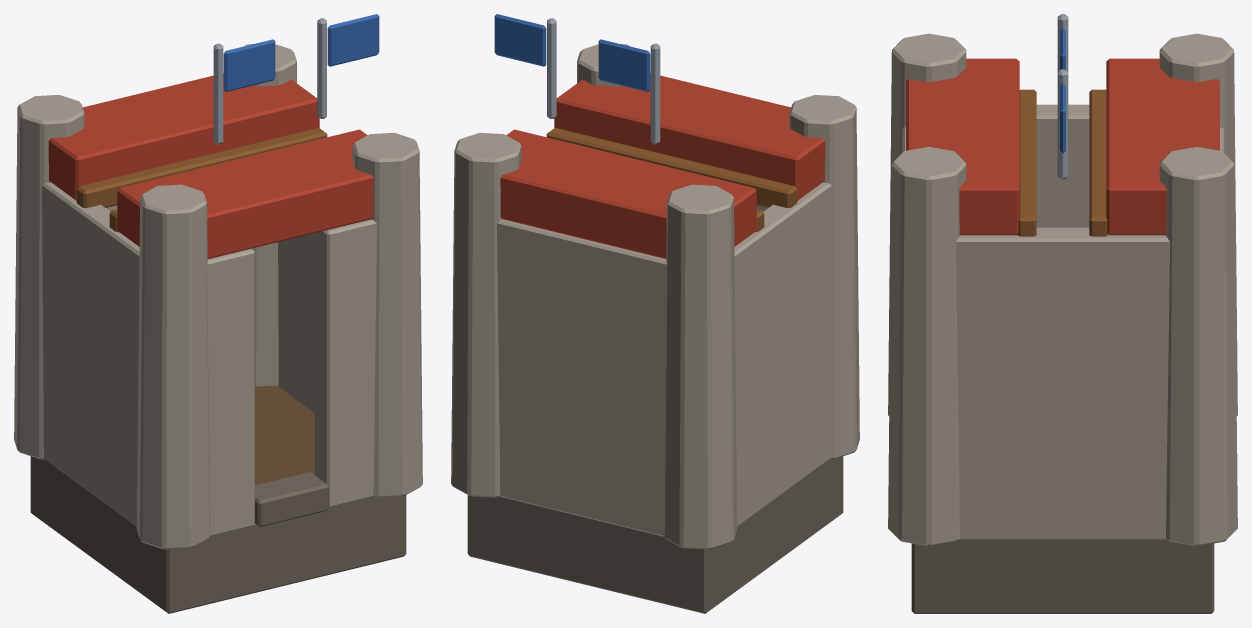
The model's file is tower_barracks_3.glb.
3 renders of one model, left to right at view 1: azimuth 30°, elevation 25°; view 2: azimuth 150°, elevation 25°; view 3: azimuth 270°, elevation 25°, orthographic. The views are drawn at different scales.
Visible parts, largest first — view 1: SM_Tower_Barracks_t3; view 2: SM_Tower_Barracks_t3; view 3: SM_Tower_Barracks_t3.
Boxes of the visible parts, x1,y1,x2,y2 form: SM_Tower_Barracks_t3: (14, 14, 422, 613); SM_Tower_Barracks_t3: (451, 14, 859, 613); SM_Tower_Barracks_t3: (888, 14, 1237, 613).
Size of the model in its own units: 1.79 by 2.81 by 1.66.
